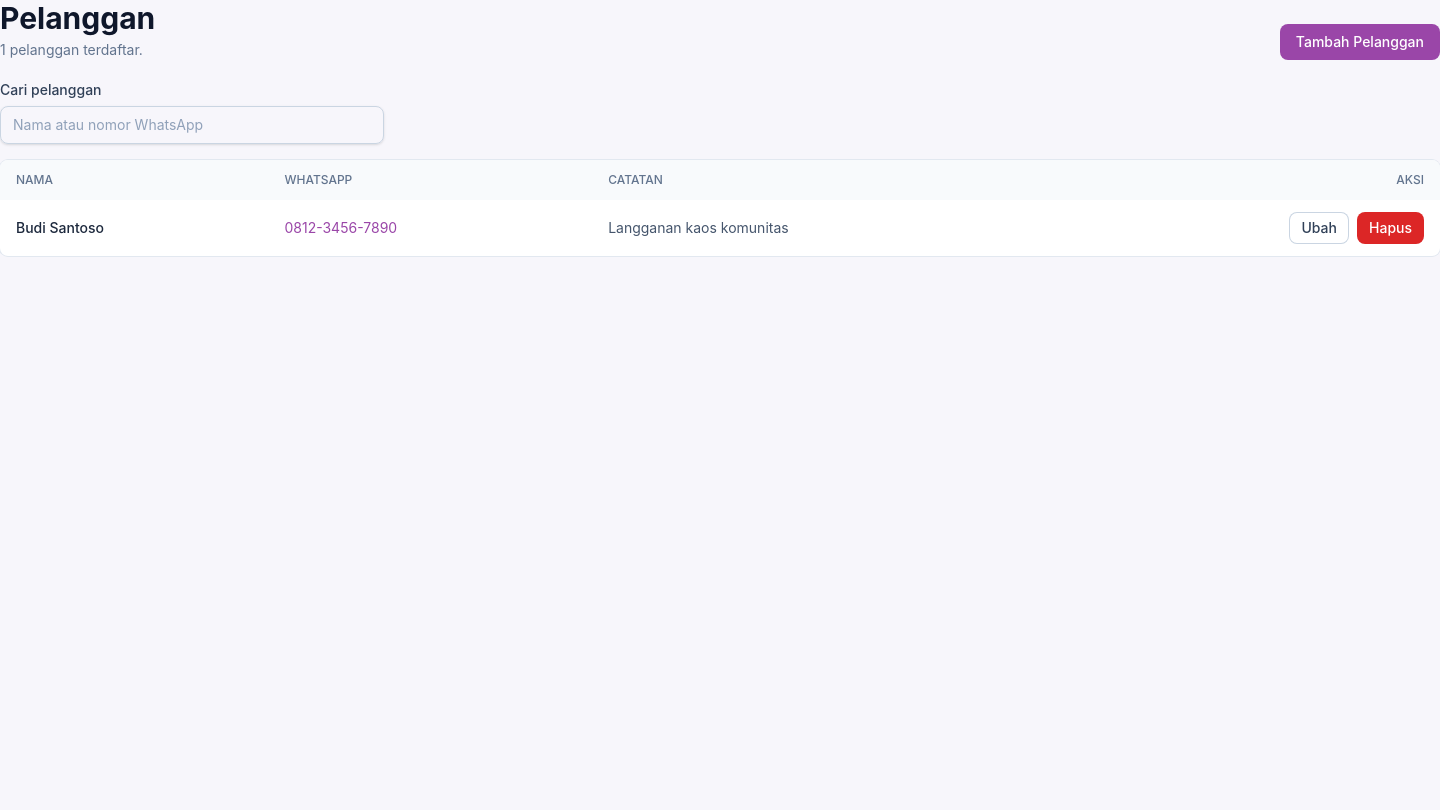
Test: CustomerListPage — tambah pelanggan › menutup dialog dan memuat ulang daftar setelah sukses
The width and height of the screenshot is (1440, 810).
Expected: the text "Budi Santoso" is shown, 0,200 -> 268,256
Click the button "Tambah Pelanggan" at (1360, 42), box 1280,24 -> 1439,60
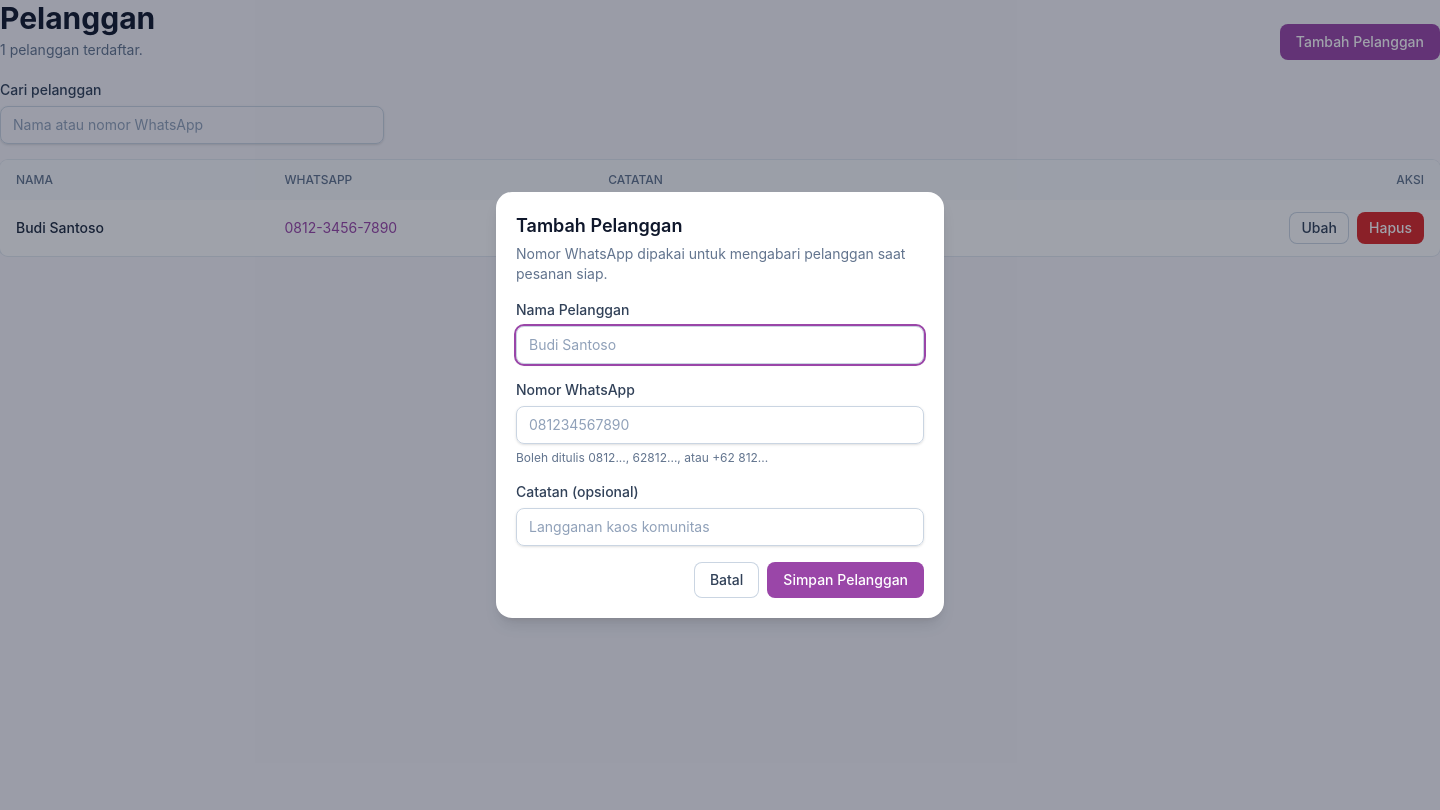
Expected: the field labelled "Nama Pelanggan" is shown
Type "Dewi Lestari" into the field labelled "Nama Pelanggan" at (720, 345), box 516,326 -> 924,364
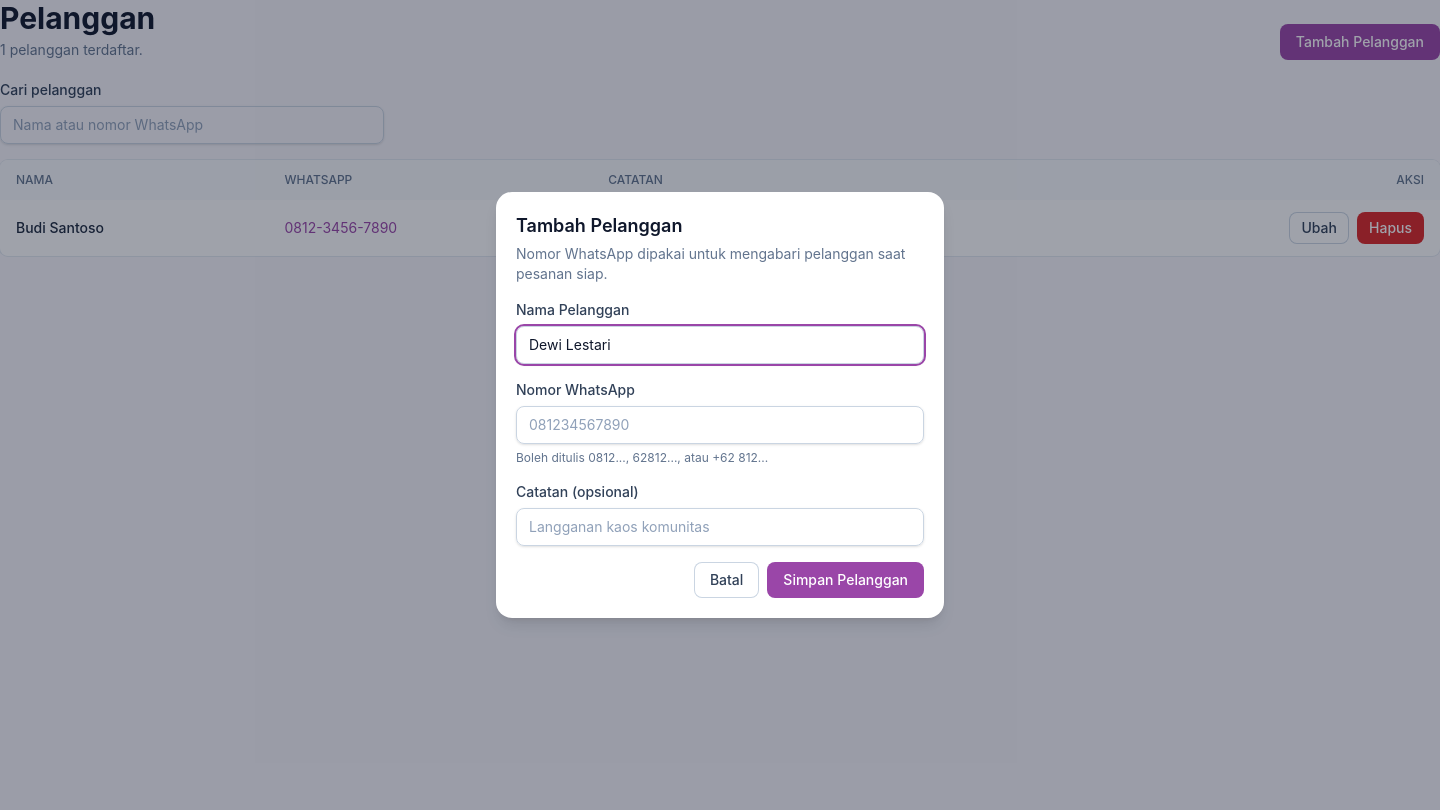
Type "085711112222" into the field labelled "Nomor WhatsApp" at (720, 425), box 516,406 -> 924,444
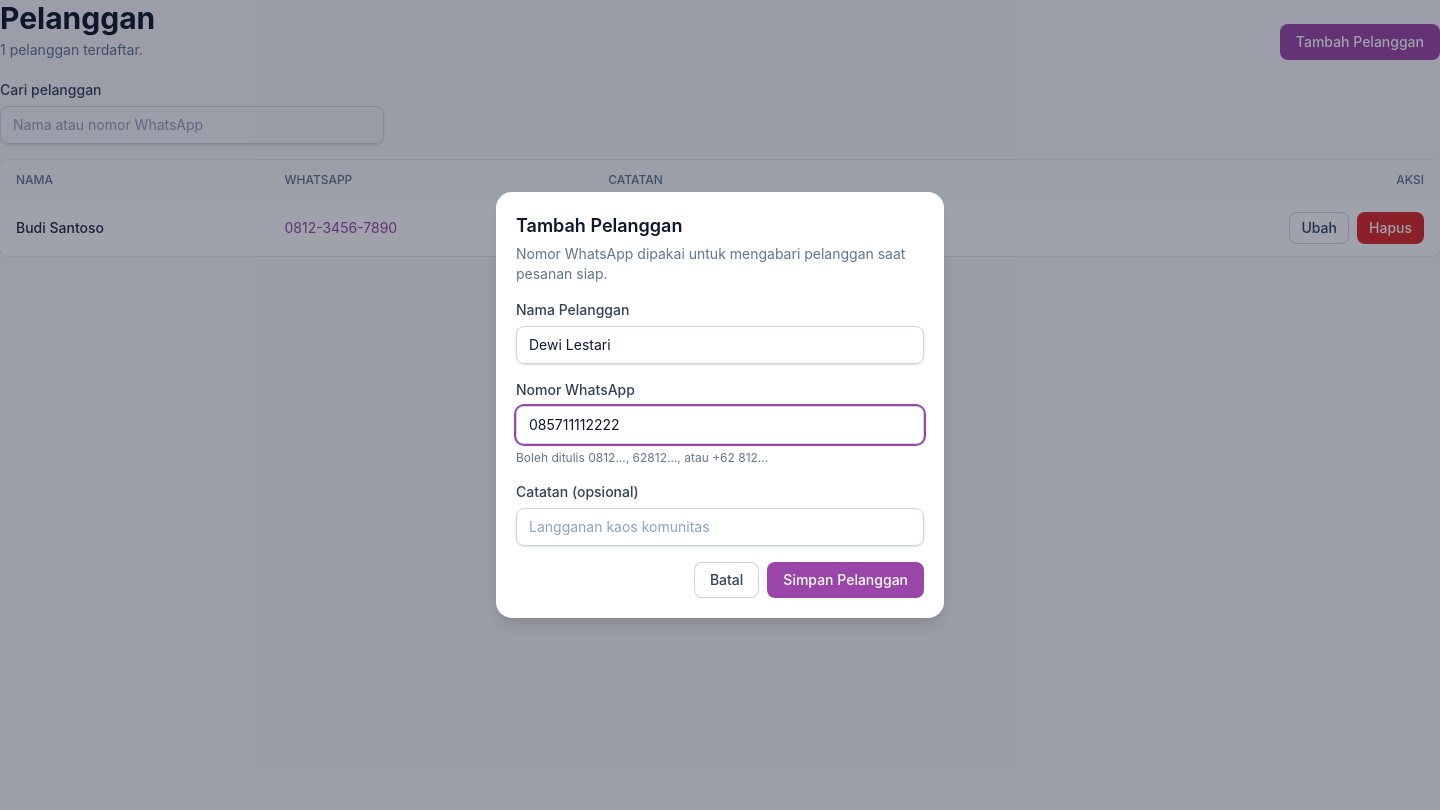
Click the button "Simpan Pelanggan" at (846, 580), box 767,562 -> 924,598
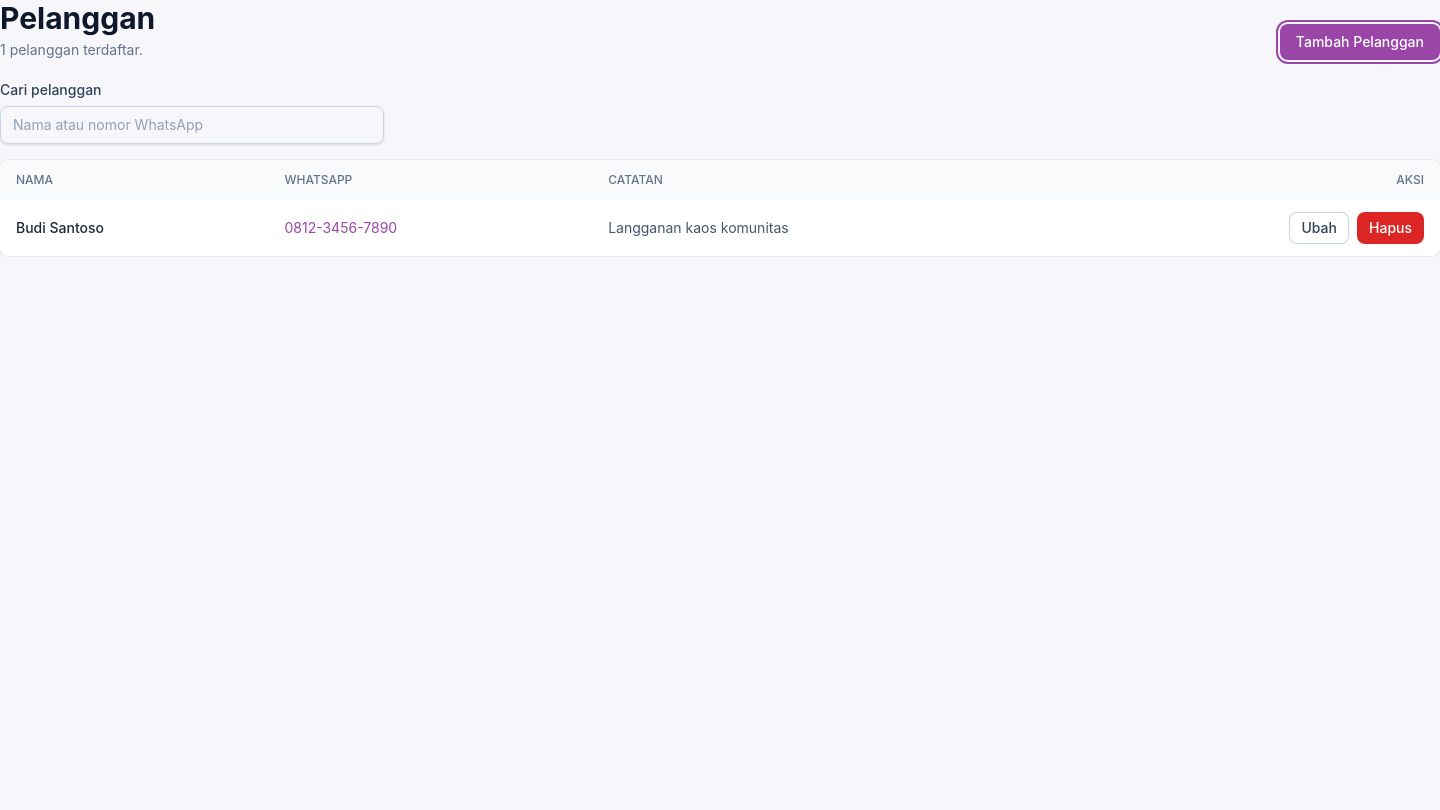
Expected: the label labelled "Nama Pelanggan" is gone
